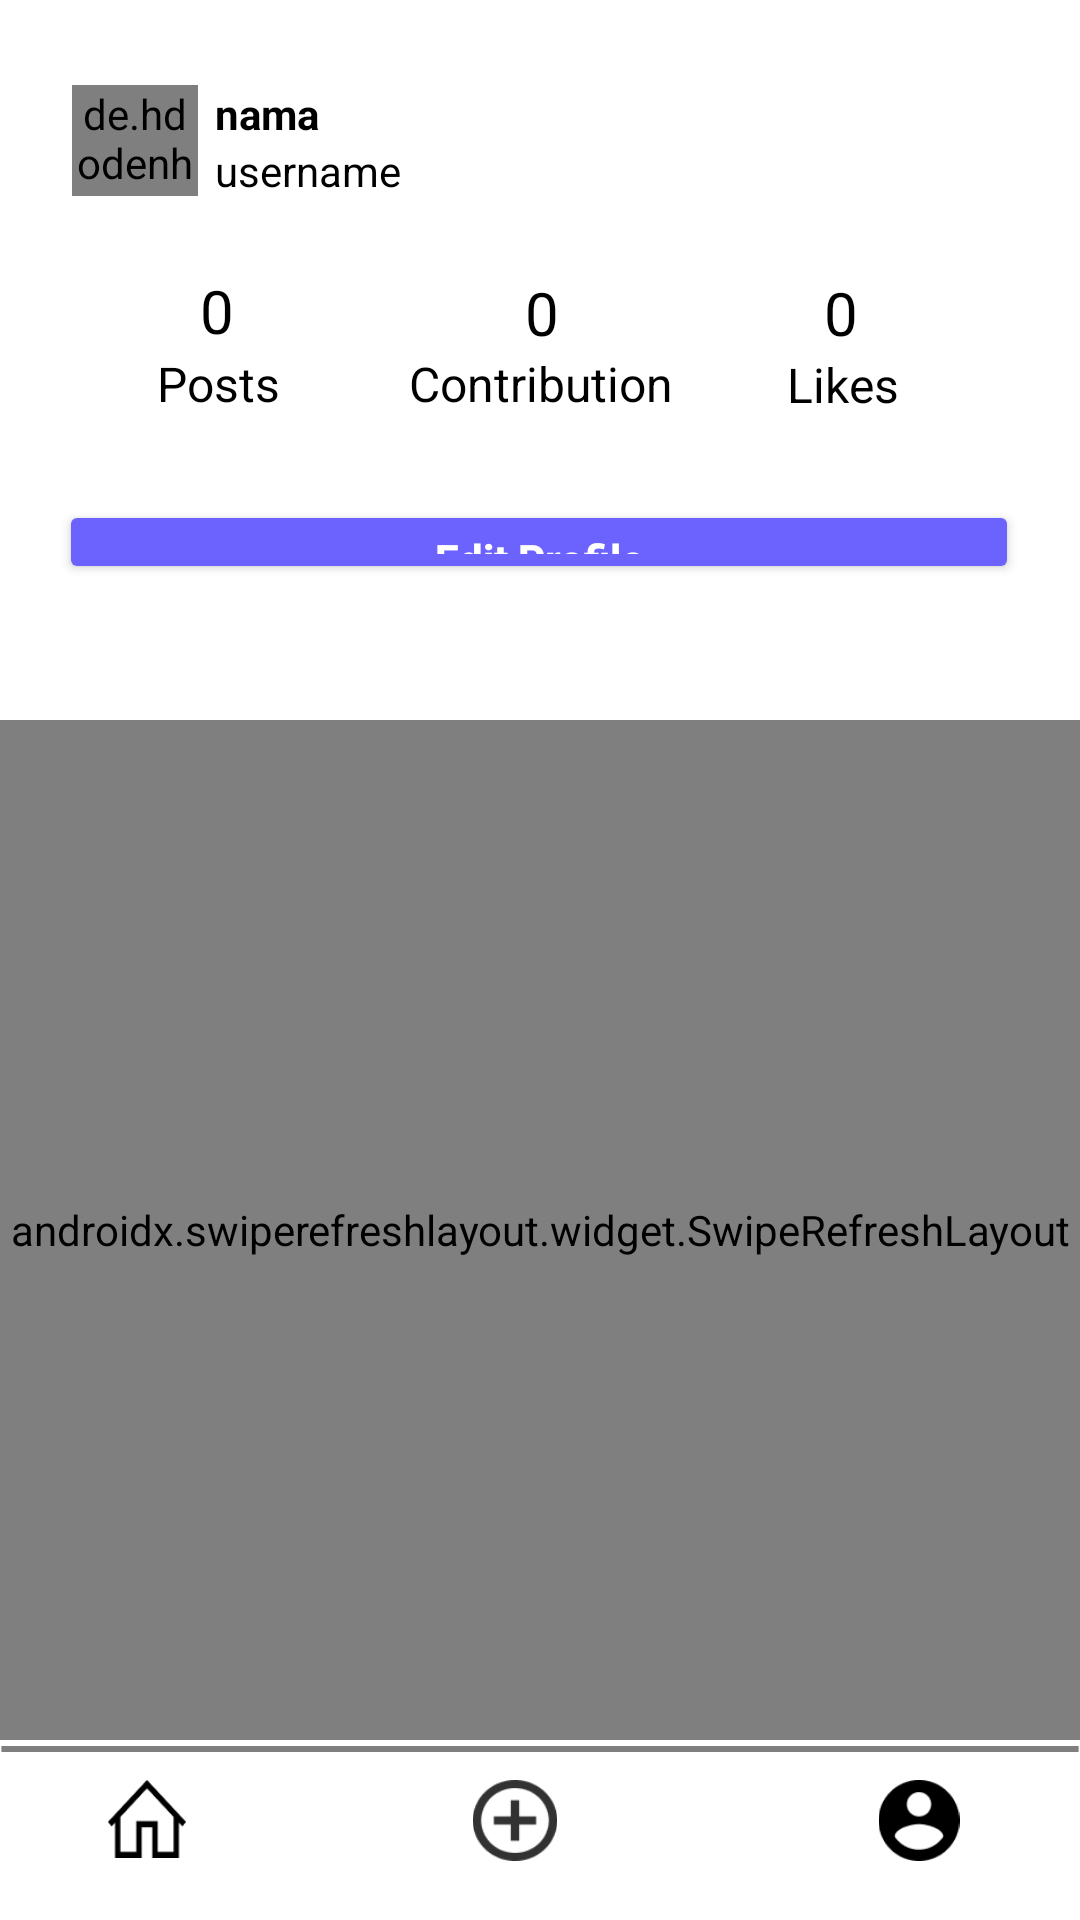

Icon click points for this 1080px×1920px phone screenshot, format (x=x, y=y):
home: (x=147, y=1819)
profile hover: (x=919, y=1820)
upload: (x=515, y=1820)
